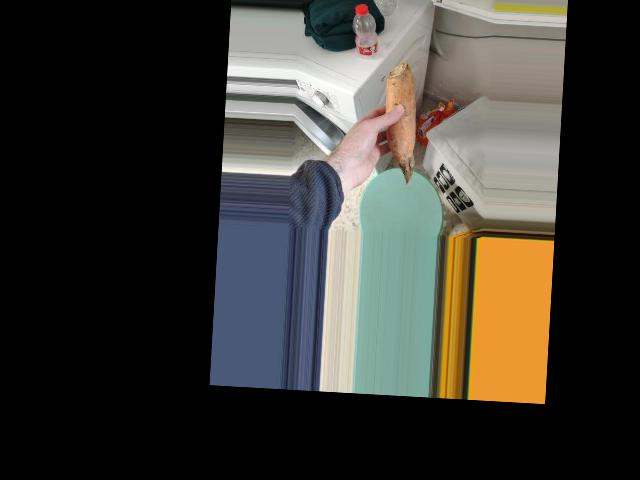sweet_potato: (373, 72, 418, 181)
